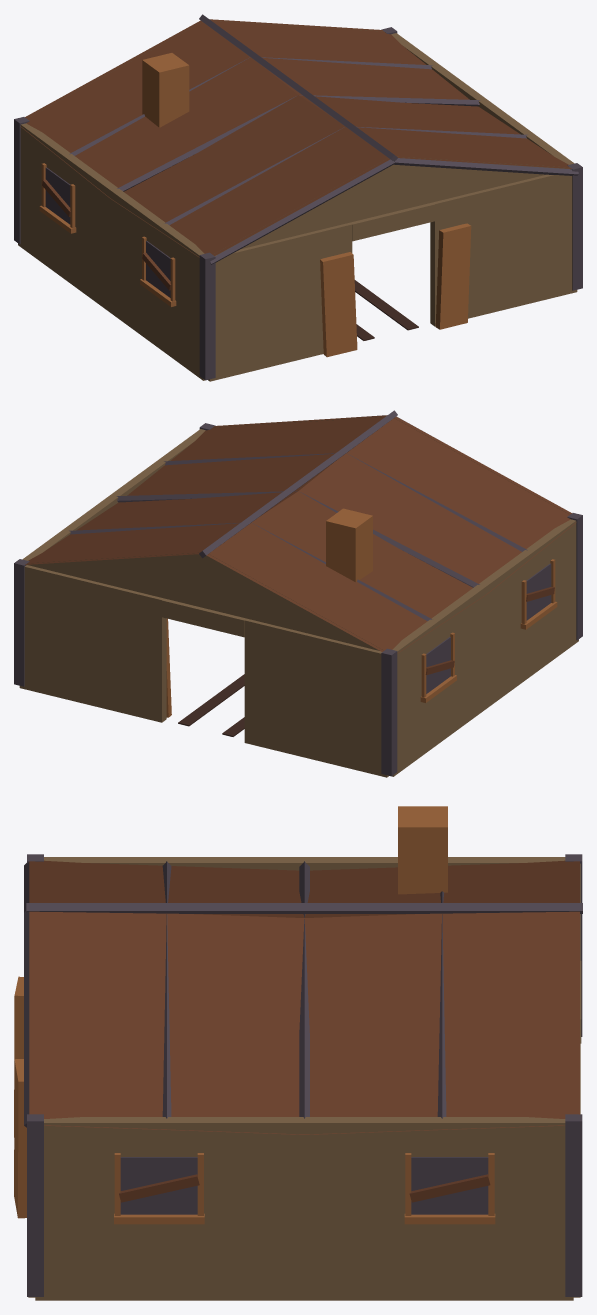
Rendered from bld.farm-house-ruin.lod1.glb.
3 renders of one model, top to bottom at view 1: azimuth 30°, elevation 25°; view 2: azimuth 150°, elevation 25°; view 3: azimuth 270°, elevation 25°, orthographic. The views are drawn at different scales.
Parts seen in each view (by area): view 1: body; view 2: body; view 3: body.
Boxes of the visible parts, bbox=[...] form: body: bbox=[14, 14, 582, 381]; body: bbox=[14, 410, 582, 777]; body: bbox=[14, 806, 582, 1300].
Bounding box in the file's own units: 8.41 × 4.11 × 7.4.
